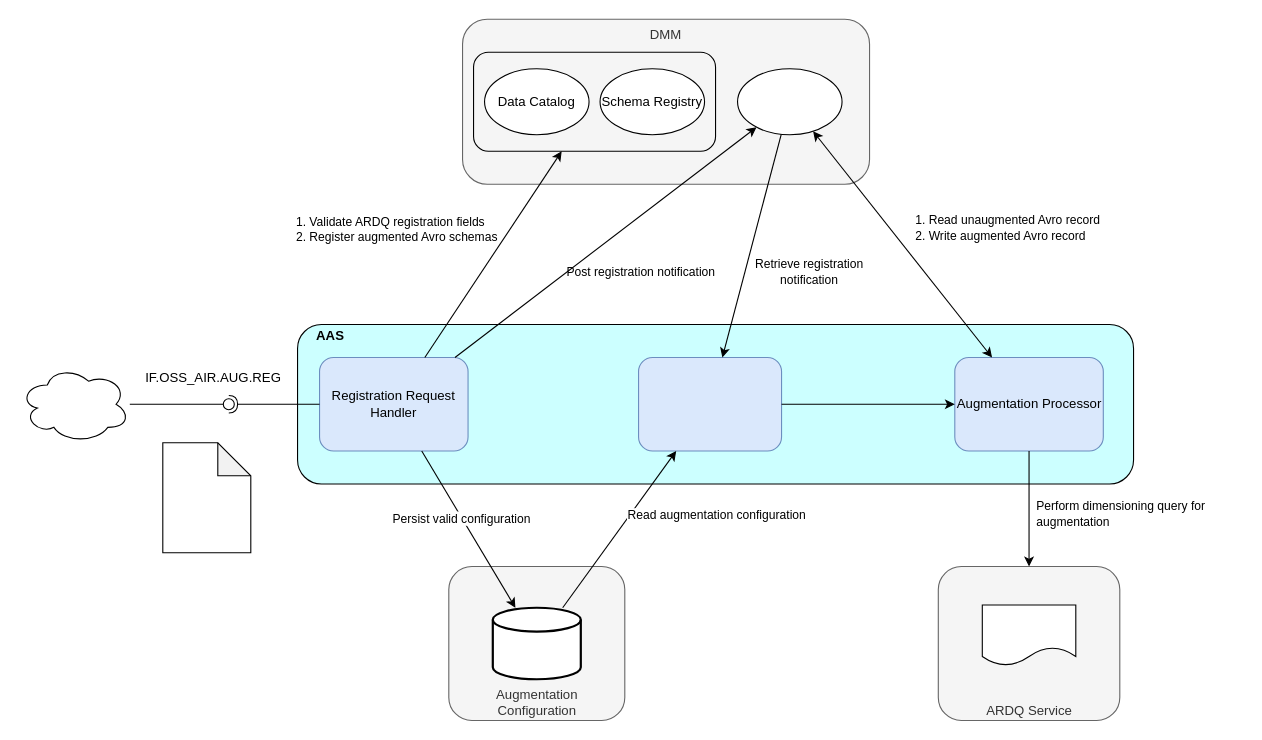
The diagram is 1262 pixels wide and 740 high, and some of its shapes have lost their labels. Here are the shapes that lost their labels. From the top down, the centre of each, then its label:
pixel 789 101: Kafka
pixel 74 404: CSAC etc
pixel 709 403: Registration Notification Handler
pixel 206 497: ARDQ Registration JSON
